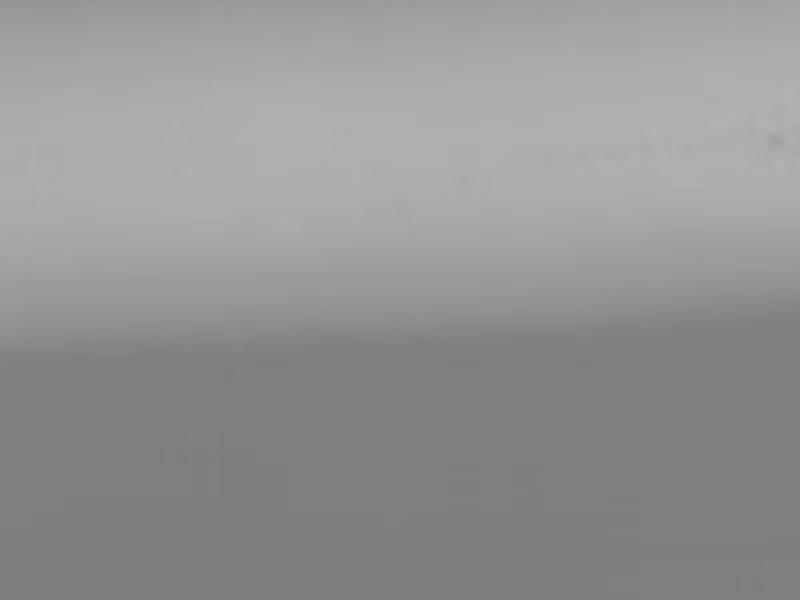defect: (766, 127, 787, 149)
